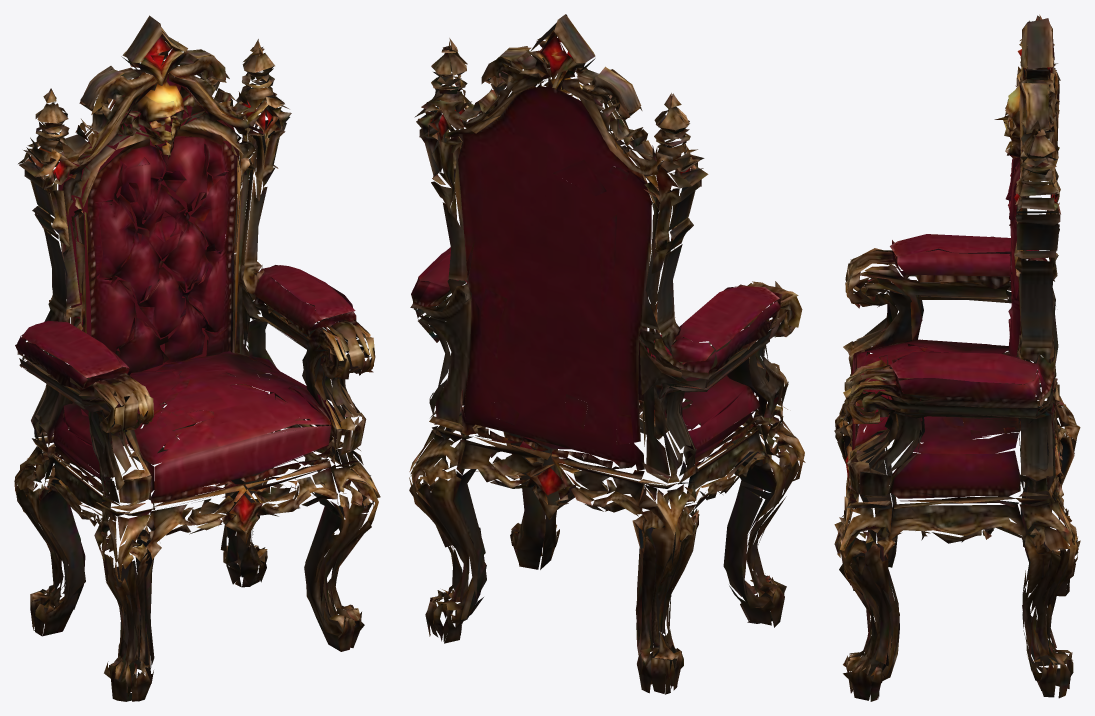
File: chair_high.glb
3 renders of one model, left to right at view 1: azimuth 30°, elevation 25°; view 2: azimuth 150°, elevation 25°; view 3: azimuth 270°, elevation 25°, orthographic. The views are drawn at different scales.
Visible parts, largest first — view 1: Mesh_0; view 2: Mesh_0; view 3: Mesh_0.
Part boxes in pixels (left/top/right/bottom): Mesh_0: left=14, top=15, right=380, bottom=701; Mesh_0: left=409, top=14, right=805, bottom=694; Mesh_0: left=834, top=14, right=1080, bottom=701.
Bounding box in the file's own units: 0.5364 × 1.09 × 0.3862.
Materials: 1 (1 with a texture image).
